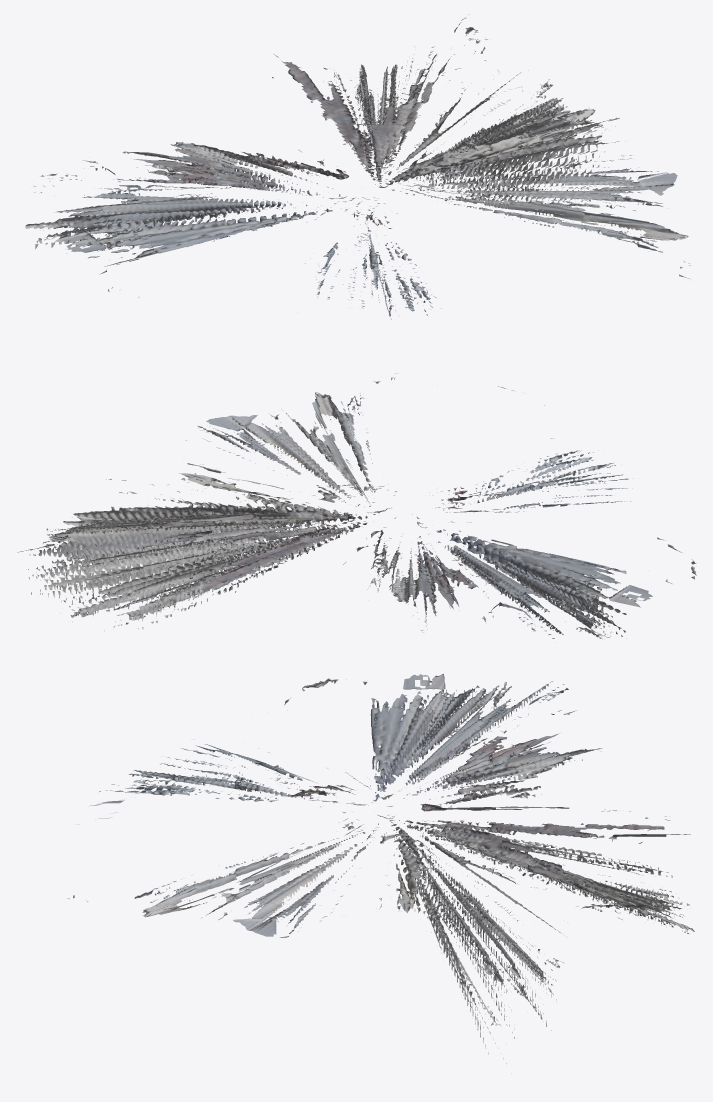
The model's file is 0-world.glb.
3 renders of one model, top to bottom at view 1: azimuth 30°, elevation 25°; view 2: azimuth 150°, elevation 25°; view 3: azimuth 270°, elevation 25°, orthographic. The views are drawn at different scales.
Visible parts, largest first — view 1: world; view 2: world; view 3: world.
Boxes of the visible parts, x1=… form: world: x1=25, y1=14, x2=690, y2=319; world: x1=17, y1=373, x2=696, y2=639; world: x1=67, y1=673, x2=694, y2=1073.
Bounding box in the file's own units: 61.99 × 15.31 × 63.53.
